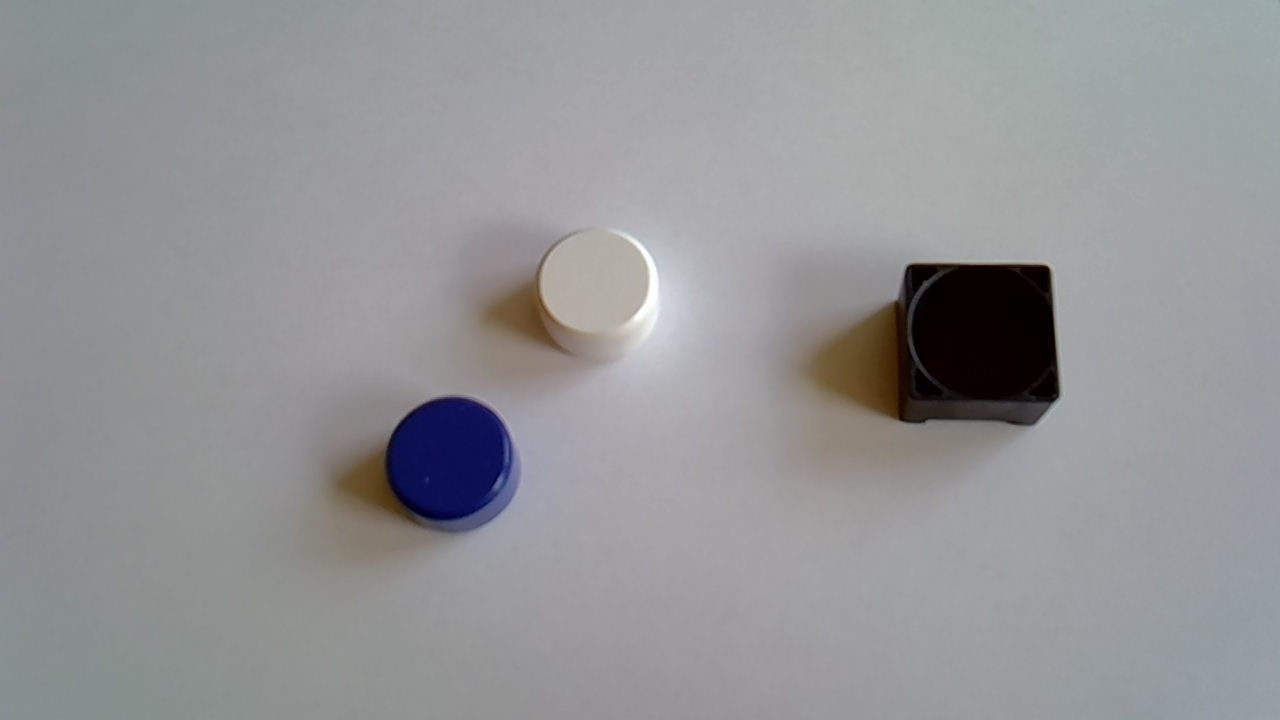Behaelter: (895, 261, 1061, 427)
WerkStueck: (384, 395, 524, 535), (533, 226, 660, 363)
